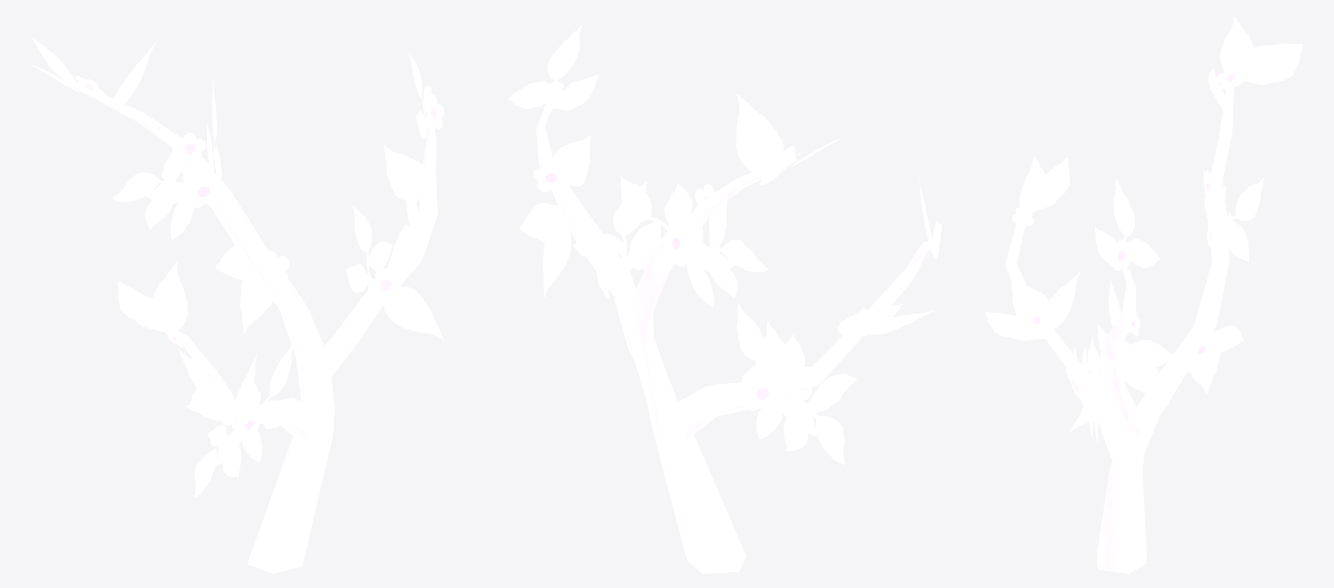
The picture shows the model from 3 angles, left to right: view 1: azimuth 30°, elevation 25°; view 2: azimuth 150°, elevation 25°; view 3: azimuth 270°, elevation 25°; orthographic projection. The views are drawn at different scales.
Parts seen in each view (by area): view 1: SM_Dwellberry_Bush_01v3_LOD0; view 2: SM_Dwellberry_Bush_01v3_LOD0; view 3: SM_Dwellberry_Bush_01v3_LOD0.
Part boxes in pixels (x1,y1,x2,y2): SM_Dwellberry_Bush_01v3_LOD0: (29,37,444,573); SM_Dwellberry_Bush_01v3_LOD0: (508,25,941,573); SM_Dwellberry_Bush_01v3_LOD0: (985,17,1302,573).
Size of the model in its own units: 0.8689 by 1.09 by 0.7316.
Materials: 1 (1 with a texture image).
